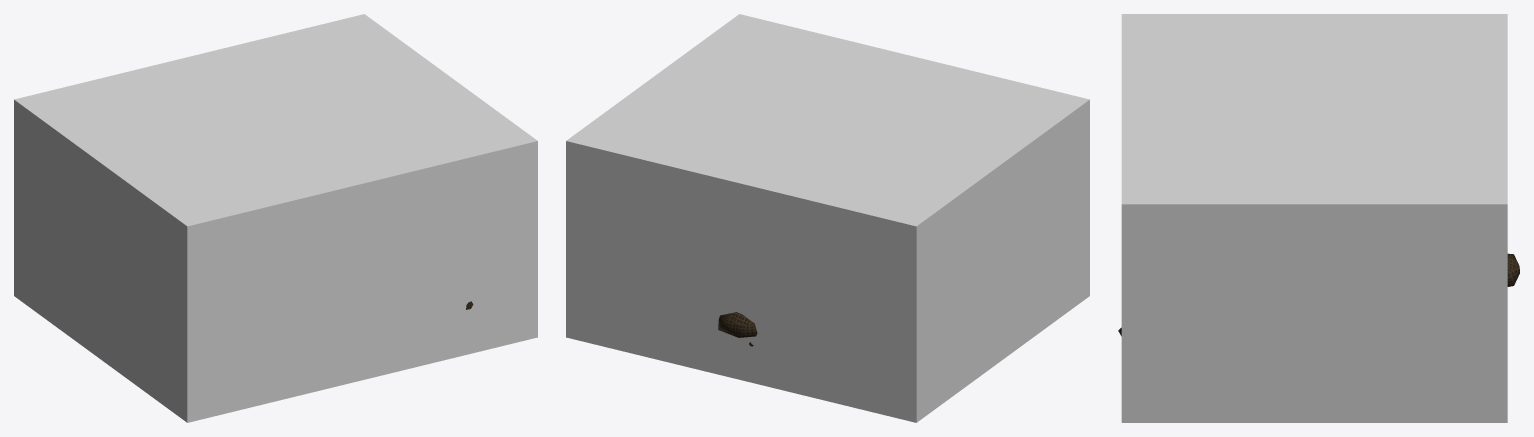
The model's file is sack_pile_closed.glb.
3 views of the same model, side by side, from view 1: azimuth 30°, elevation 25°; view 2: azimuth 150°, elevation 25°; view 3: azimuth 270°, elevation 25° (orthographic). The views are drawn at different scales.
Parts seen in each view (by area): view 1: col_click; view 2: col_click, sack_pile_closed; view 3: col_click, sack_pile_closed.
Part boxes in pixels (bbox=[...]): col_click: bbox=[14, 14, 537, 422]; col_click: bbox=[566, 14, 1089, 422]; sack_pile_closed: bbox=[718, 312, 757, 346]; col_click: bbox=[1121, 14, 1507, 422]; sack_pile_closed: bbox=[1118, 253, 1519, 336].
Bounding box in the file's own units: 1.4 × 0.75 × 1.25.
1 material, 1 textured.
